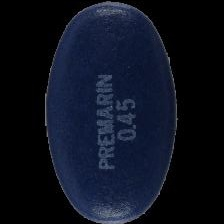55154-0218: (0, 0, 224, 224)
